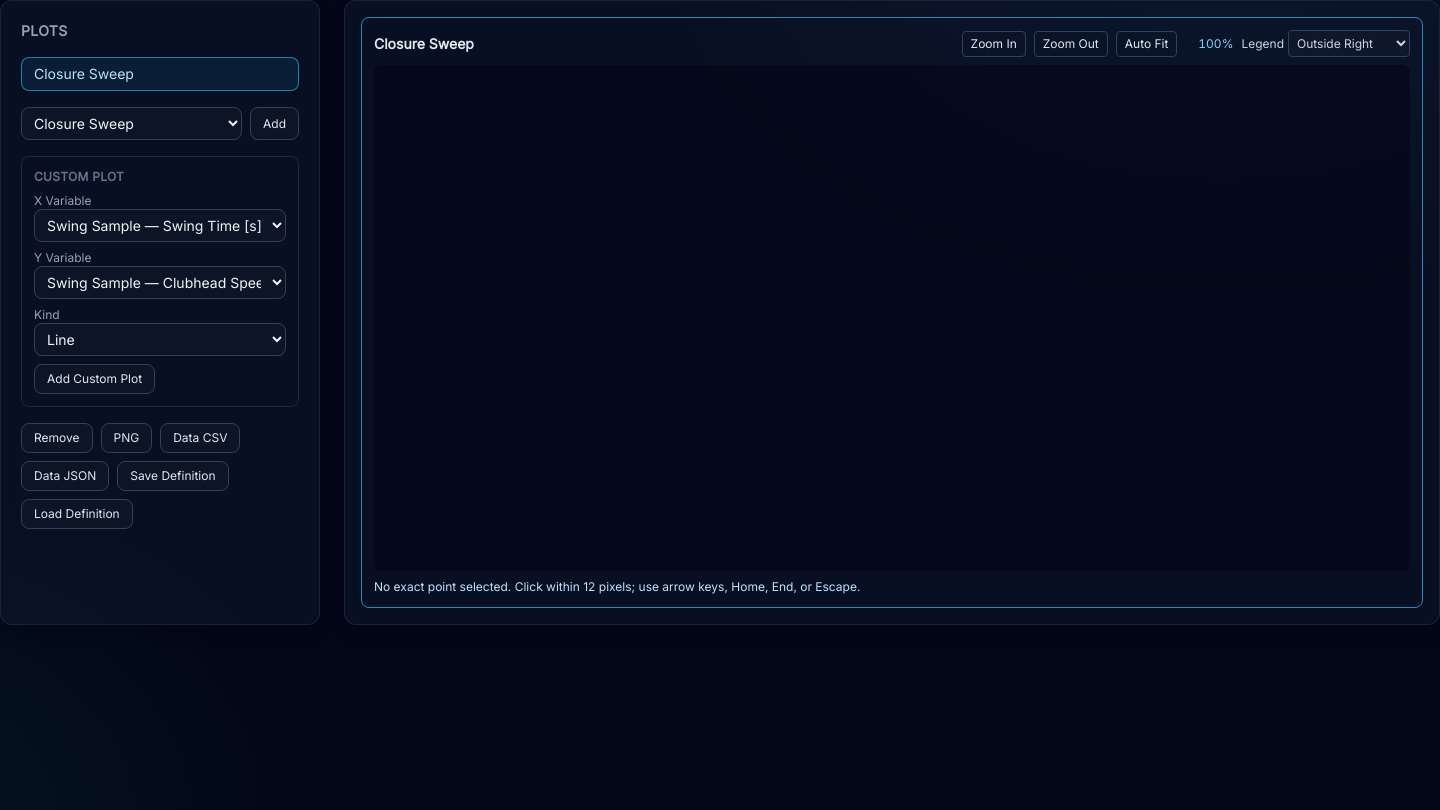
it: PlotsPanel view workspace › keeps zoom, autoscale, and legend placement independent per plot
Click the button "Add" at (274, 124), box [250,107,299,140]
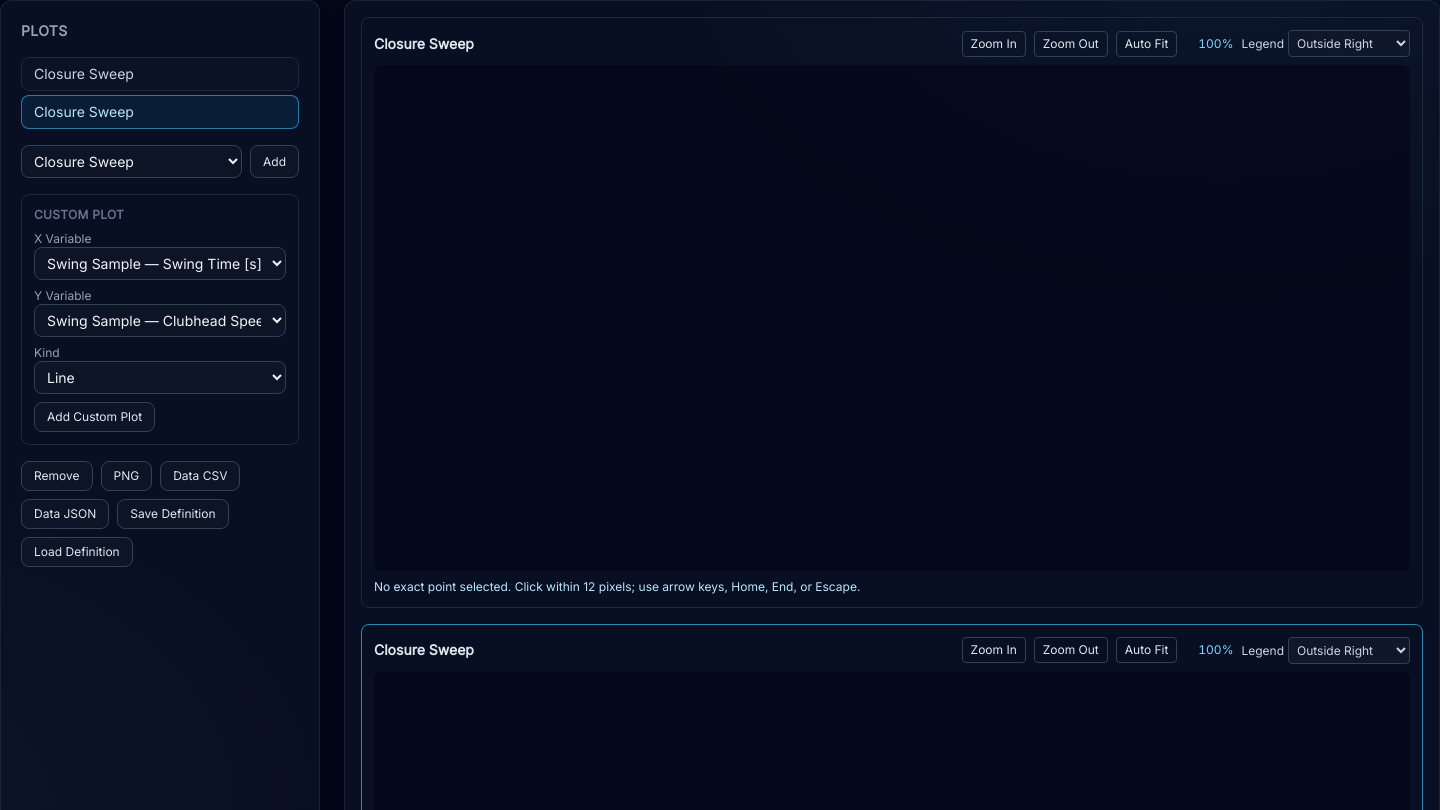
Click the 1st button "Zoom In" at (994, 44), box [962,30,1026,56]
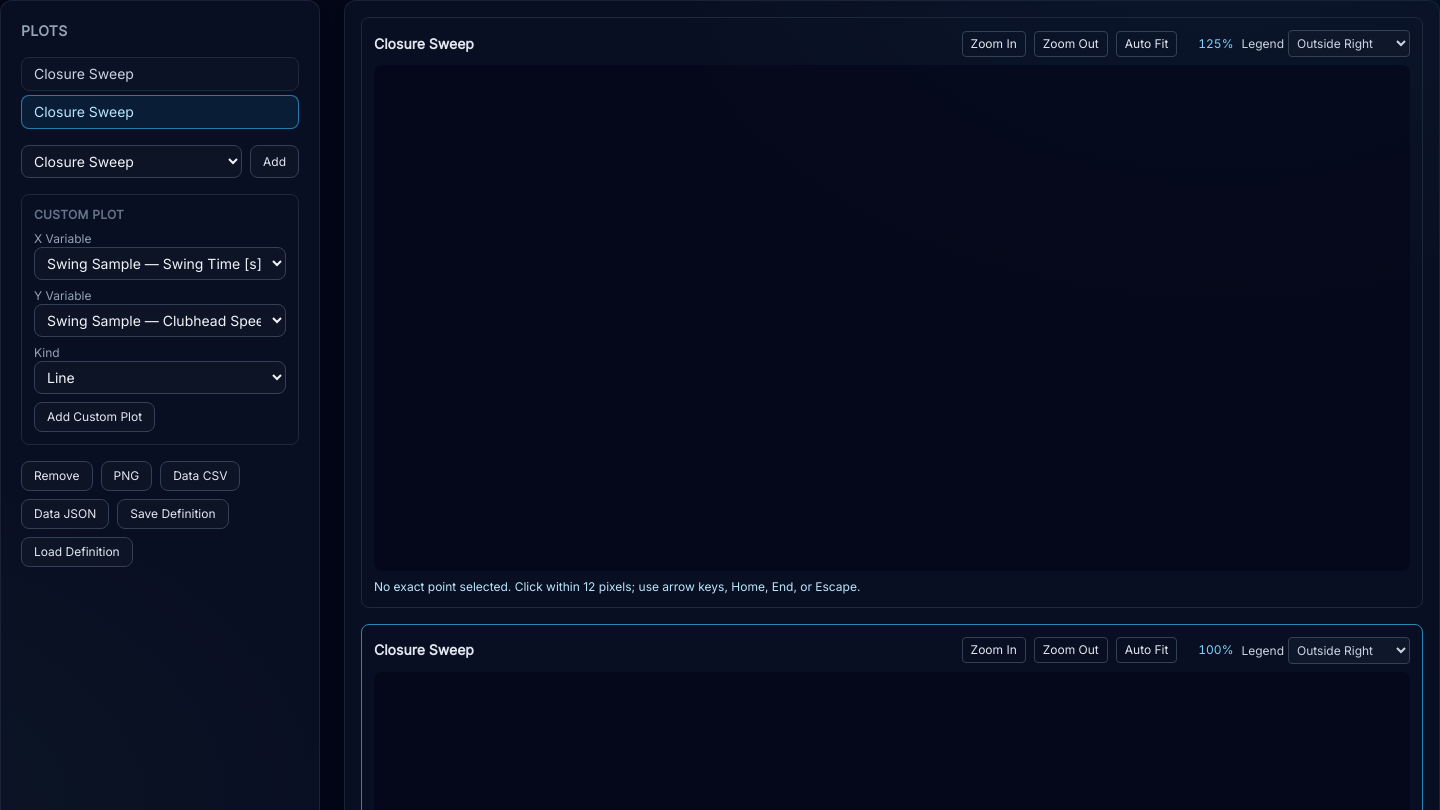
Expected: the text "100%" is shown, [1198,642,1233,658]
Expected: the text "125%" is shown, [1198,36,1233,50]
Select "Hidden" in the dropdown named "Legend position" at (1349, 44), box [1288,30,1410,57]
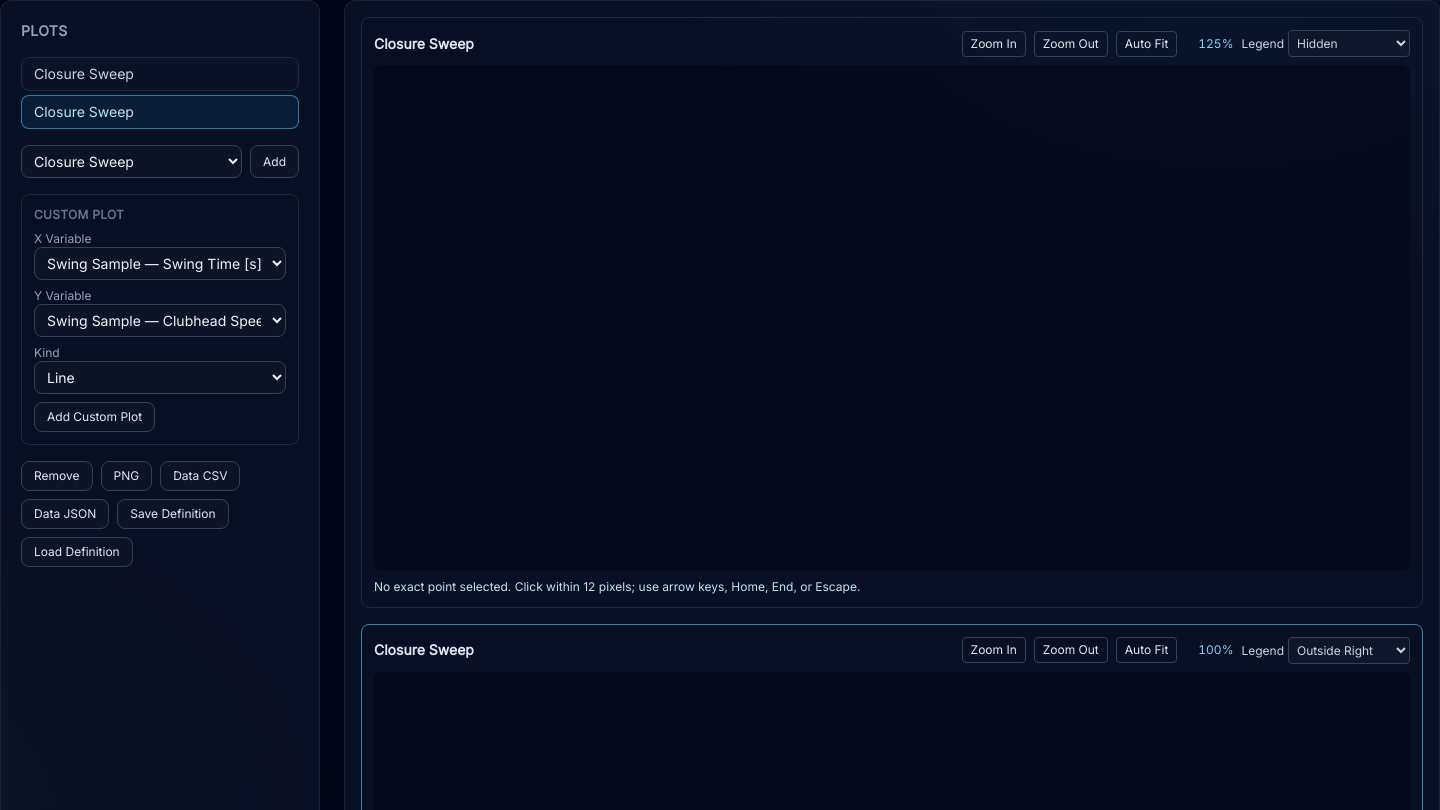
Expected: the dropdown named "Legend position" shows "Outside Right", [1288,637,1410,664]
Click the button "Auto Fit" next to "125" at (1147, 44), box [1116,30,1178,56]
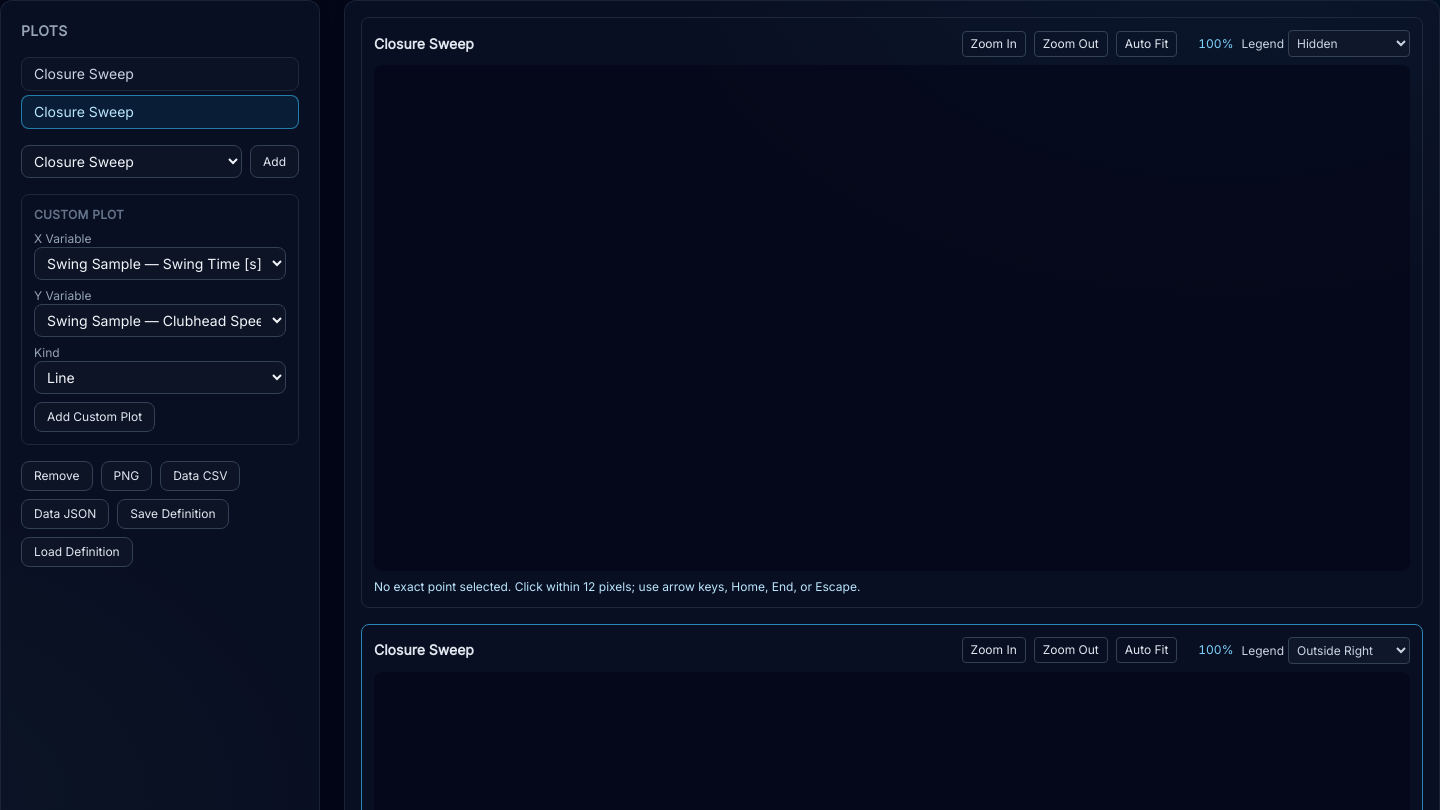
Expected: the 1st text "100%" is shown, [1198,36,1233,50]
